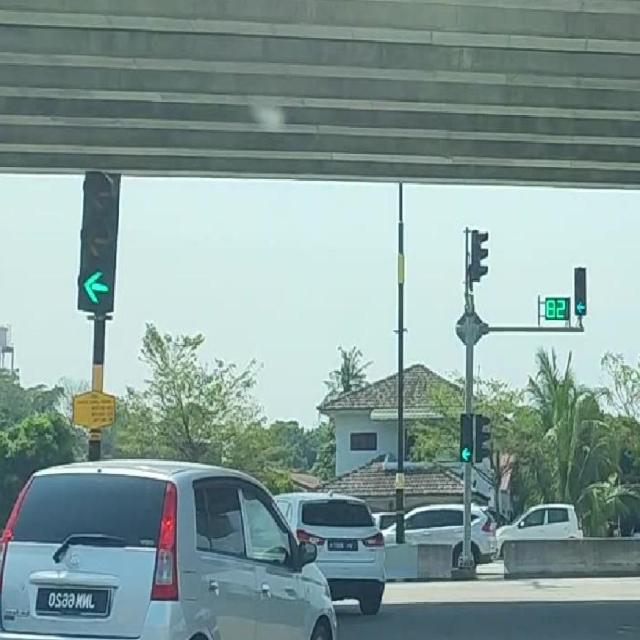car: (0, 458, 339, 640), (379, 503, 508, 574), (495, 503, 583, 559)
traffic light: (76, 171, 121, 315), (470, 230, 489, 282), (475, 416, 492, 463), (459, 414, 473, 463), (574, 267, 587, 317)
